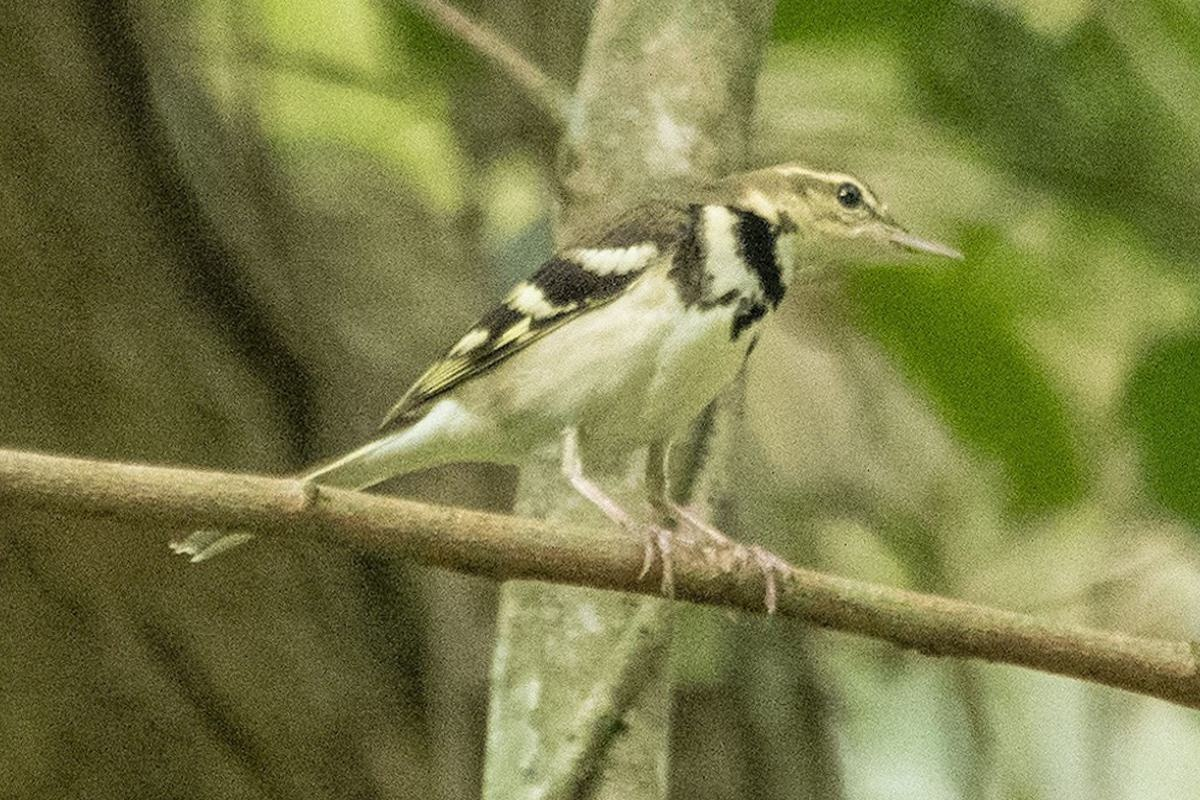wagtail: (353, 136, 943, 533)
